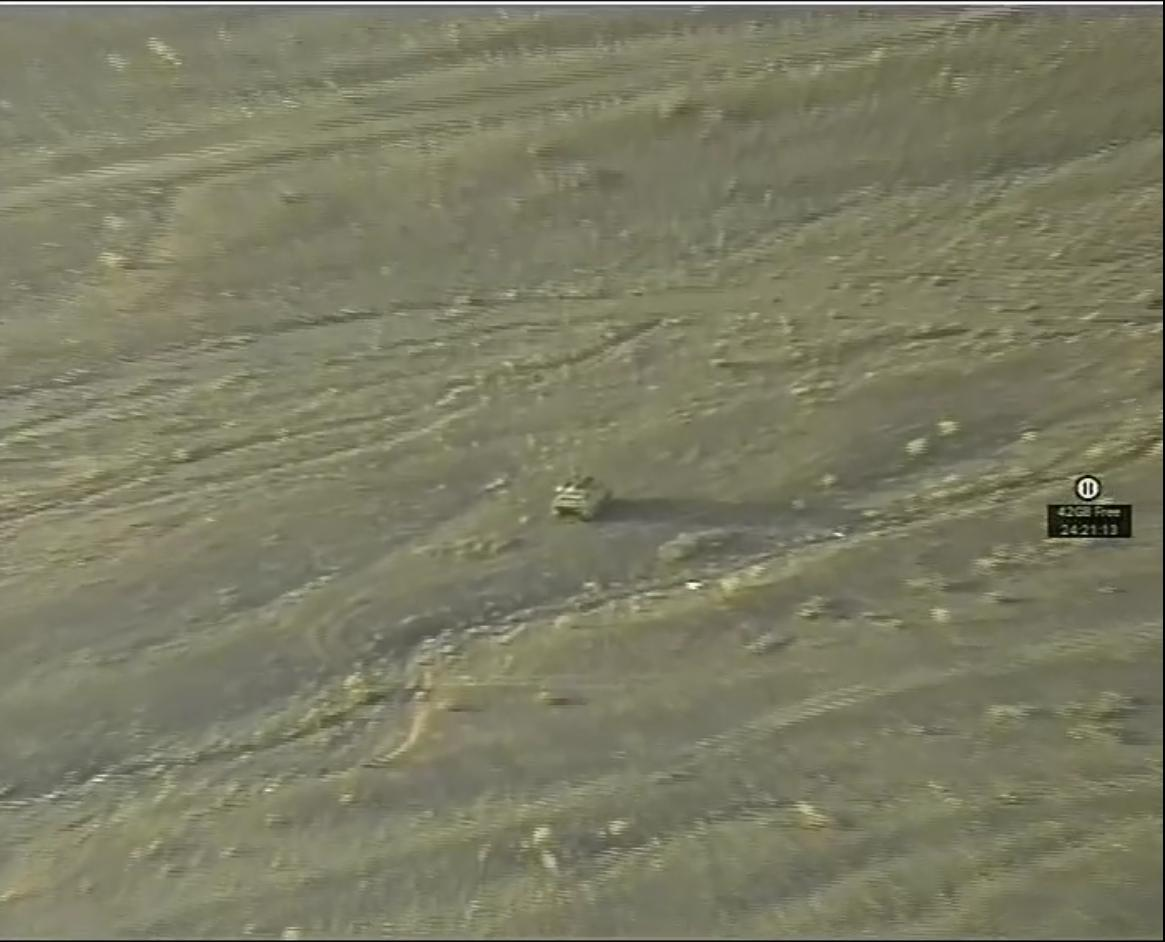armored_car: (547, 469, 614, 524)
